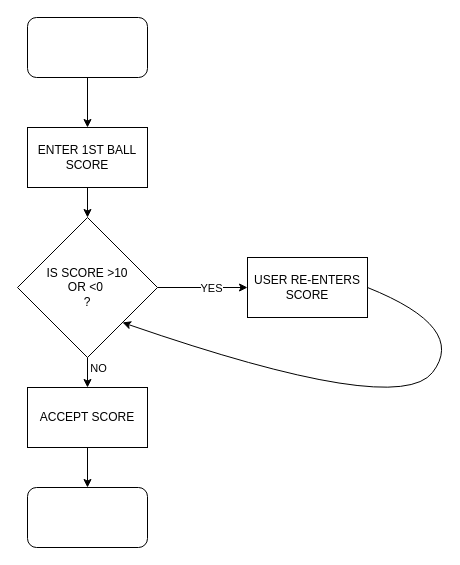
The diagram is 460 pixels wide and 565 high, and some of its shapes have lost their labels. Each missing label, with the centre of its shape:
END: pixel 87 517
START: pixel 87 47
